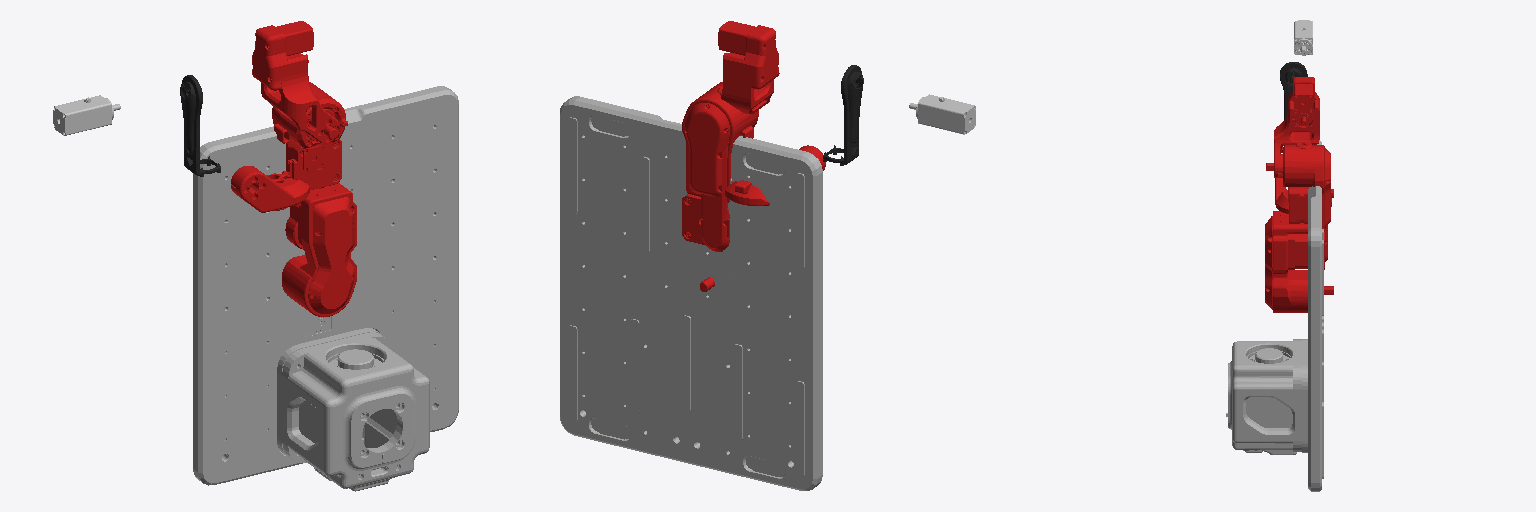
URDF robot description (dummy_ros_sim):
<?xml version="1.0" encoding="utf-8"?>
<!-- This URDF was automatically created by SolidWorks to URDF Exporter! Originally created by [author] ([email redacted]) 
     Commit Version: 1.6.0-4-g7f85cfe  Build Version: 1.6.7995.38578
     For more information, please see http://wiki.ros.org/sw_urdf_exporter -->
<robot
  name="dummy_ros_sim">
  <link
    name="base_link">
    <inertial>
      <origin
        xyz="0.01166 6.7119E-05 0.0056226"
        rpy="0 0 0" />
      <mass
        value="1.5267" />
      <inertia
        ixx="0.0064142"
        ixy="-3.335E-07"
        ixz="-1.3589E-05"
        iyy="0.0090227"
        iyz="1.5342E-07"
        izz="0.014977" />
    </inertial>
    <visual>
      <origin
        xyz="0 0 0"
        rpy="0 0 0" />
      <geometry>
        <mesh
          filename="package://dummy_ros_sim/meshes/base_link.STL" />
      </geometry>
      <material
        name="">
        <color
          rgba="0.72157 0.72157 0.72157 1" />
      </material>
    </visual>
    <collision>
      <origin
        xyz="0 0 0"
        rpy="0 0 0" />
      <geometry>
        <mesh
          filename="package://dummy_ros_sim/meshes/base_link.STL" />
      </geometry>
    </collision>
  </link>
  <link
    name="link1">
    <inertial>
      <origin
        xyz="0.0056156 -0.0056565 0.0062868"
        rpy="0 0 0" />
      <mass
        value="0.052137" />
      <inertia
        ixx="2.2604E-05"
        ixy="7.1474E-06"
        ixz="-3.282E-06"
        iyy="1.9368E-05"
        iyz="5.1109E-06"
        izz="3.1983E-05" />
    </inertial>
    <visual>
      <origin
        xyz="0 0 0"
        rpy="0 0 0" />
      <geometry>
        <mesh
          filename="package://dummy_ros_sim/meshes/link1.STL" />
      </geometry>
      <material
        name="">
        <color
          rgba="0.81176 0.1451 0.1451 1" />
      </material>
    </visual>
    <collision>
      <origin
        xyz="0 0 0"
        rpy="0 0 0" />
      <geometry>
        <mesh
          filename="package://dummy_ros_sim/meshes/link1.STL" />
      </geometry>
    </collision>
  </link>
  <joint
    name="joint1"
    type="revolute">
    <origin
      xyz="-0.058 0 0.09125"
      rpy="0 0 1.5708" />
    <parent
      link="base_link" />
    <child
      link="link1" />
    <axis
      xyz="0 0 -1" />
    <limit
      lower="-3.14"
      upper="3.14"
      effort="100"
      velocity="1" />
  </joint>
  <link
    name="link2">
    <inertial>
      <origin
        xyz="-0.0020583 0.071447 -0.025784"
        rpy="0 0 0" />
      <mass
        value="0.31639" />
      <inertia
        ixx="0.00053447"
        ixy="-1.2154E-06"
        ixz="-1.4253E-06"
        iyy="0.000104"
        iyz="-3.8331E-05"
        izz="0.00053485" />
    </inertial>
    <visual>
      <origin
        xyz="0 0 0"
        rpy="0 0 0" />
      <geometry>
        <mesh
          filename="package://dummy_ros_sim/meshes/link2.STL" />
      </geometry>
      <material
        name="">
        <color
          rgba="0.81176 0.1451 0.1451 1" />
      </material>
    </visual>
    <collision>
      <origin
        xyz="0 0 0"
        rpy="0 0 0" />
      <geometry>
        <mesh
          filename="package://dummy_ros_sim/meshes/link2.STL" />
      </geometry>
    </collision>
  </link>
  <joint
    name="joint2"
    type="revolute">
    <origin
      xyz="0.021695 -0.035 0.02275"
      rpy="1.5708 0 1.5708" />
    <parent
      link="link1" />
    <child
      link="link2" />
    <axis
      xyz="0 0 -1" />
    <limit
      lower="-3.14"
      upper="3.14"
      effort="100"
      velocity="1" />
  </joint>
  <link
    name="link3">
    <inertial>
      <origin
        xyz="-0.022524 0.04444 -0.020961"
        rpy="0 0 0" />
      <mass
        value="0.064123" />
      <inertia
        ixx="2.5889E-05"
        ixy="3.4323E-06"
        ixz="-2.0349E-06"
        iyy="1.482E-05"
        iyz="5.2064E-06"
        izz="2.0053E-05" />
    </inertial>
    <visual>
      <origin
        xyz="0 0 0"
        rpy="0 0 0" />
      <geometry>
        <mesh
          filename="package://dummy_ros_sim/meshes/link3.STL" />
      </geometry>
      <material
        name="">
        <color
          rgba="0.81176 0.1451 0.1451 1" />
      </material>
    </visual>
    <collision>
      <origin
        xyz="0 0 0"
        rpy="0 0 0" />
      <geometry>
        <mesh
          filename="package://dummy_ros_sim/meshes/link3.STL" />
      </geometry>
    </collision>
  </link>
  <joint
    name="joint3"
    type="revolute">
    <origin
      xyz="0 0.146 -0.04754"
      rpy="3.1416 0 3.1416" />
    <parent
      link="link2" />
    <child
      link="link3" />
    <axis
      xyz="0 0 -1" />
    <limit
      lower="-3.14"
      upper="3.14"
      effort="100"
      velocity="1" />
  </joint>
  <link
    name="link4">
    <inertial>
      <origin
        xyz="-0.0087728 3.8099E-05 -0.05782"
        rpy="0 0 0" />
      <mass
        value="0.056451" />
      <inertia
        ixx="4.299E-05"
        ixy="6.8652E-08"
        ixz="2.1487E-06"
        iyy="4.1293E-05"
        iyz="-2.8866E-07"
        izz="5.9024E-06" />
    </inertial>
    <visual>
      <origin
        xyz="0 0 0"
        rpy="0 0 0" />
      <geometry>
        <mesh
          filename="package://dummy_ros_sim/meshes/link4.STL" />
      </geometry>
      <material
        name="">
        <color
          rgba="0.81176 0.1451 0.1451 1" />
      </material>
    </visual>
    <collision>
      <origin
        xyz="0 0 0"
        rpy="0 0 0" />
      <geometry>
        <mesh
          filename="package://dummy_ros_sim/meshes/link4.STL" />
      </geometry>
    </collision>
  </link>
  <joint
    name="joint4"
    type="revolute">
    <origin
      xyz="-0.0038692 0.051904 -0.025845"
      rpy="3.1416 -1.5708 0" />
    <parent
      link="link3" />
    <child
      link="link4" />
    <axis
      xyz="0 0 1" />
    <limit
      lower="-3.14"
      upper="3.14"
      effort="100"
      velocity="1" />
  </joint>
  <link
    name="link5">
    <inertial>
      <origin
        xyz="0.024226 2.256E-05 0.0025234"
        rpy="0 0 0" />
      <mass
        value="0.0094131" />
      <inertia
        ixx="4.9665E-07"
        ixy="1.5324E-09"
        ixz="1.4814E-07"
        iyy="6.1043E-06"
        iyz="-2.5175E-10"
        izz="6.4252E-06" />
    </inertial>
    <visual>
      <origin
        xyz="0 0 0"
        rpy="0 0 0" />
      <geometry>
        <mesh
          filename="package://dummy_ros_sim/meshes/link5.STL" />
      </geometry>
      <material
        name="">
        <color
          rgba="0.2 0.2 0.2 1" />
      </material>
    </visual>
    <collision>
      <origin
        xyz="0 0 0"
        rpy="0 0 0" />
      <geometry>
        <mesh
          filename="package://dummy_ros_sim/meshes/link5.STL" />
      </geometry>
    </collision>
  </link>
  <joint
    name="joint5"
    type="revolute">
    <origin
      xyz="0.0109 9.6372E-05 -0.11887"
      rpy="0 1.5708 0" />
    <parent
      link="link4" />
    <child
      link="link5" />
    <axis
      xyz="0 0 -1" />
    <limit
      lower="-3.14"
      upper="3.14"
      effort="100"
      velocity="1" />
  </joint>
  <link
    name="link6">
    <inertial>
      <origin
        xyz="-9.3325E-05 -1.8113E-05 -0.022796"
        rpy="0 0 0" />
      <mass
        value="0.018588" />
      <inertia
        ixx="8.0336E-07"
        ixy="-9.1229E-12"
        ixz="3.9256E-12"
        iyy="8.0342E-07"
        iyz="1.1339E-11"
        izz="1.1882E-06" />
    </inertial>
    <visual>
      <origin
        xyz="0 0 0"
        rpy="0 0 0" />
      <geometry>
        <mesh
          filename="package://dummy_ros_sim/meshes/link6.STL" />
      </geometry>
      <material
        name="">
        <color
          rgba="0.79608 0.79608 0.79608 1" />
      </material>
    </visual>
    <collision>
      <origin
        xyz="0 0 0"
        rpy="0 0 0" />
      <geometry>
        <mesh
          filename="package://dummy_ros_sim/meshes/link6.STL" />
      </geometry>
    </collision>
  </link>
  <joint
    name="joint6"
    type="revolute">
    <origin
      xyz="0.070746 0 -0.010807"
      rpy="0 -1.5708 0" />
    <parent
      link="link5" />
    <child
      link="link6" />
    <axis
      xyz="0 0 1" />
    <limit
      lower="-3.14"
      upper="3.14"
      effort="100"
      velocity="1" />
  </joint>
</robot>

--- What the picture shows (computed from the rendered views, not written in the file) ---
Views: 3 orthographic renders of the robot side by side, from view 1: azimuth 30°, elevation 25°; view 2: azimuth 150°, elevation 25°; view 3: azimuth 270°, elevation 25°.
Model dummy_ros_sim with 7 links and 6 joints (6 revolute), rooted at base_link, posed every joint at zero.
Visible links, largest first — view 1: base_link, link2, link3, link1, link5, link6, link4; view 2: base_link, link2, link3, link5, link4, link6, link1; view 3: base_link, link2, link3, link6, link5.
Link boxes in pixels (box(x1,y1,x2,y2)): base_link: box(193, 86, 458, 491); link2: box(272, 82, 356, 316); link3: box(252, 21, 339, 142); link1: box(231, 166, 309, 212); link5: box(180, 75, 220, 176); link6: box(53, 95, 120, 135); link4: box(274, 89, 324, 249); base_link: box(560, 96, 822, 490); link2: box(682, 82, 758, 291); link3: box(718, 21, 779, 113); link5: box(823, 65, 863, 165); link4: box(701, 87, 753, 251); link6: box(909, 94, 975, 134); link1: box(725, 145, 825, 205); base_link: box(1226, 140, 1323, 491); link2: box(1265, 145, 1333, 312); link3: box(1274, 77, 1319, 177); link6: box(1294, 20, 1312, 55); link5: box(1280, 62, 1307, 119).
Size in the robot's own frame: 0.3882 by 0.116 by 0.41 metres.
Meshes: 7 distinct files referenced, 7 mesh visuals loaded (7 binary STL).